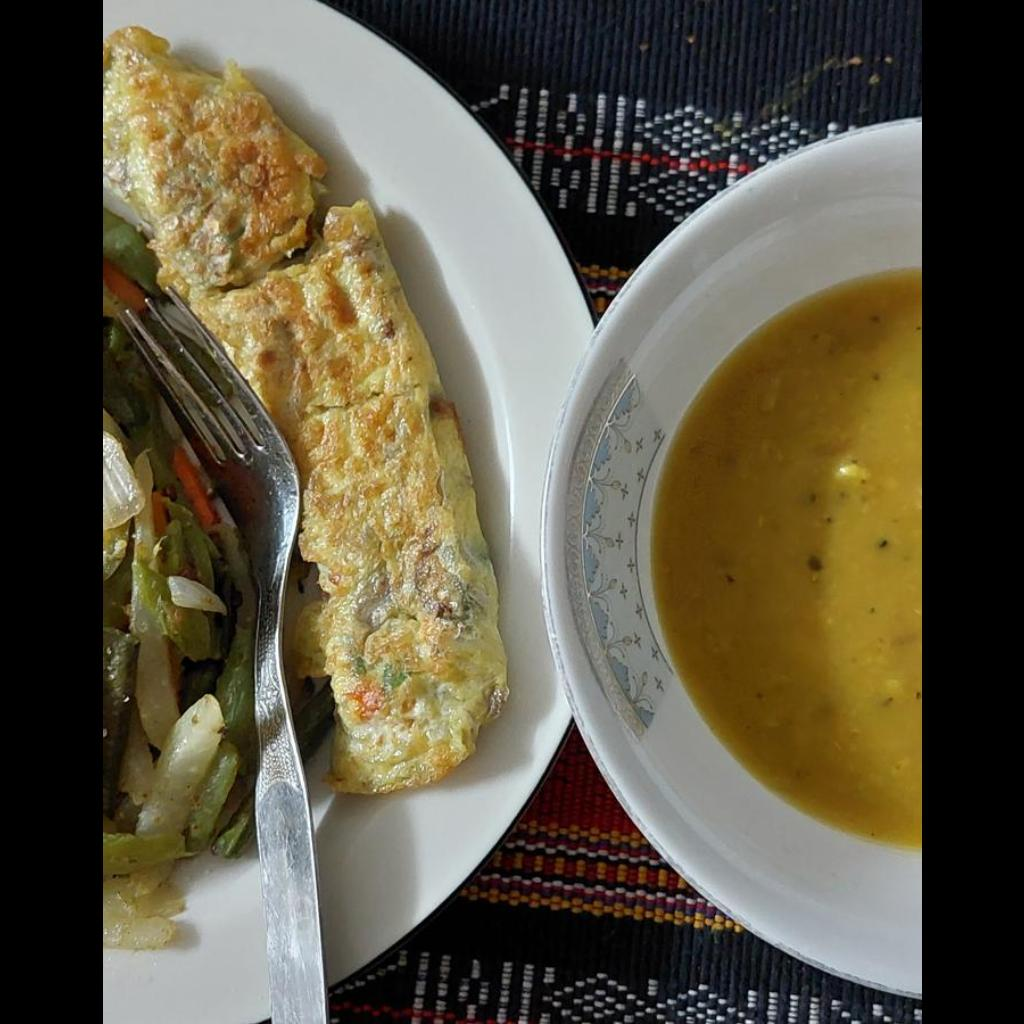daal: (643, 266, 920, 847)
egg-poached: (102, 26, 513, 798)
vegetable: (102, 207, 248, 941)
